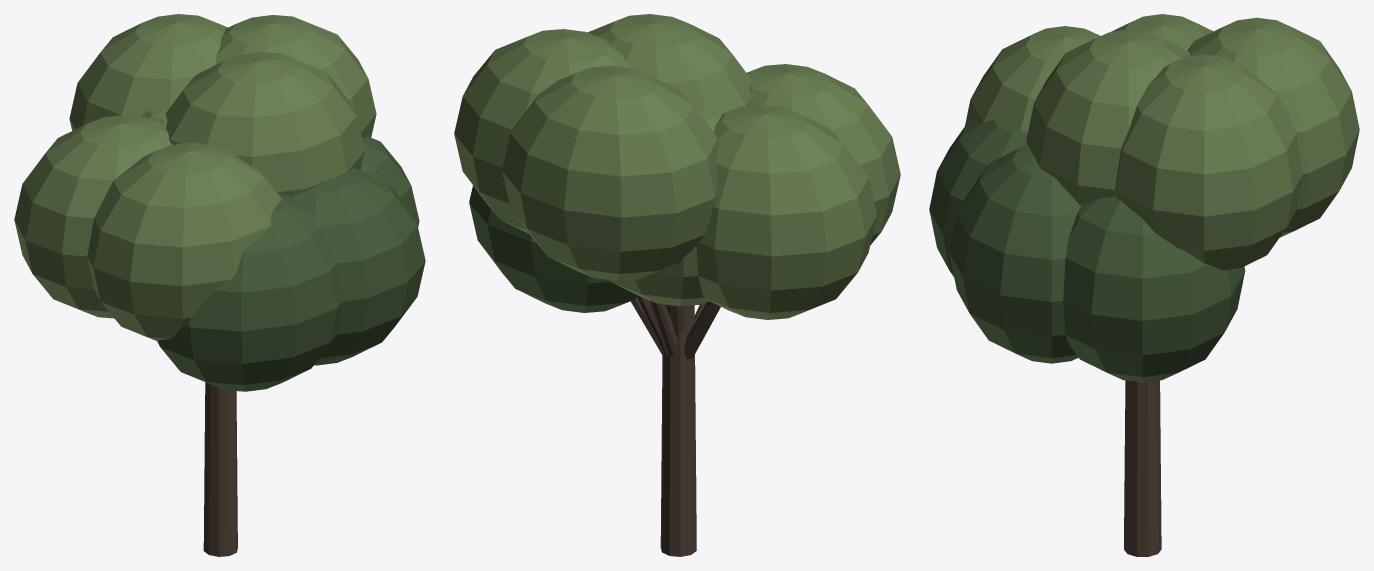
File: round-tree.glb
3 renders of one model, left to right at view 1: azimuth 30°, elevation 25°; view 2: azimuth 150°, elevation 25°; view 3: azimuth 270°, elevation 25°, orthographic. The views are drawn at different scales.
Visible parts, largest first — view 1: round-tree; view 2: round-tree; view 3: round-tree.
Boxes of the visible parts, x1,y1,x2,y2 form: round-tree: [14, 14, 425, 556]; round-tree: [454, 14, 900, 556]; round-tree: [929, 14, 1359, 556].
Size of the model in its own units: 5.68 by 7.05 by 5.25.
